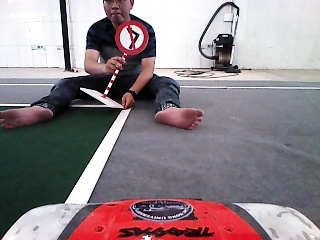ban_left: (115, 19, 149, 56)
